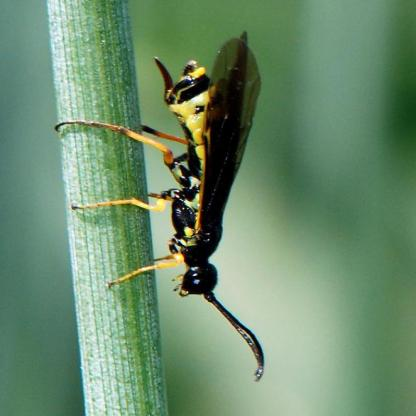sawfly: (53, 24, 288, 388)
